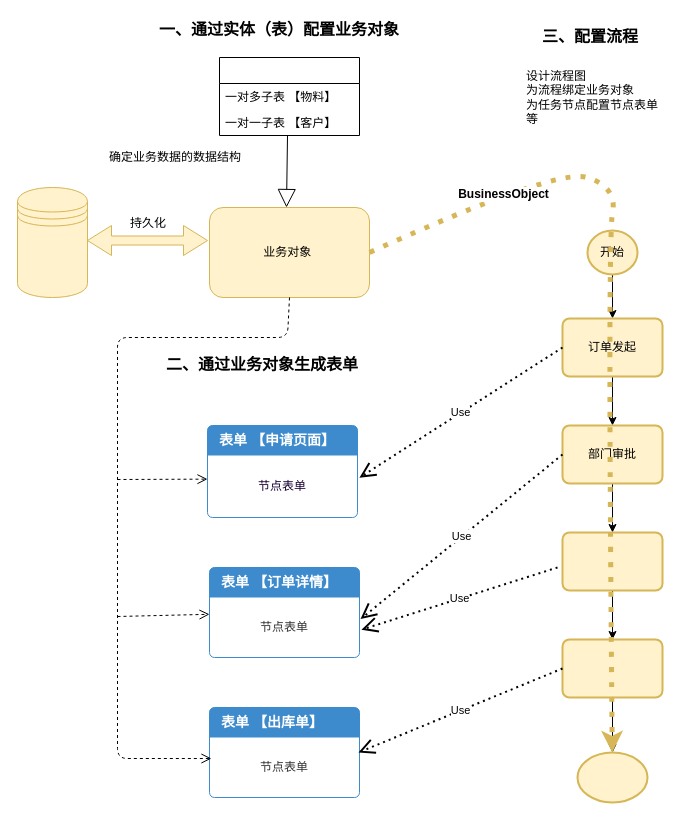
The diagram is 692 pixels wide and 820 high, and some of its shapes have lost their labels. Here are the shapes that lost their labels. From the top down, the box of each, then its label:
(218, 56, 360, 136): 主表 【订单】
(561, 531, 663, 591): 财务审核
(561, 638, 663, 698): 仓库出库
(576, 751, 648, 803): 归档
